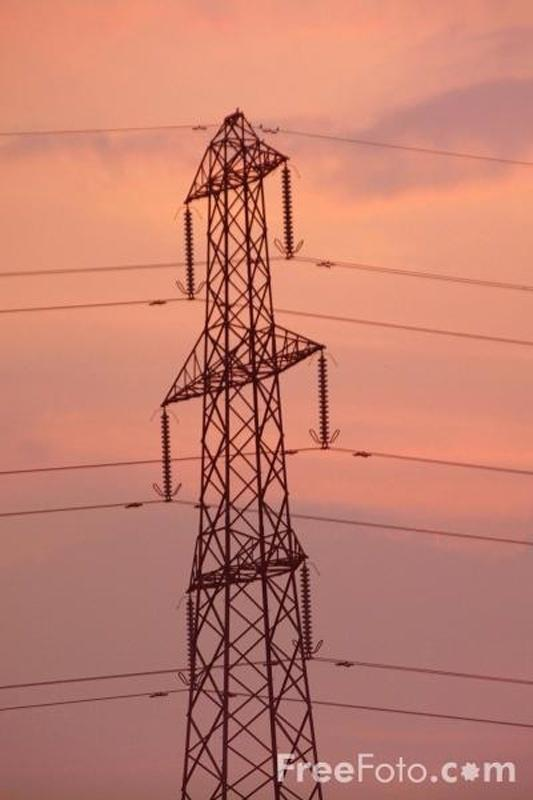power_tower: (143, 100, 355, 790)
